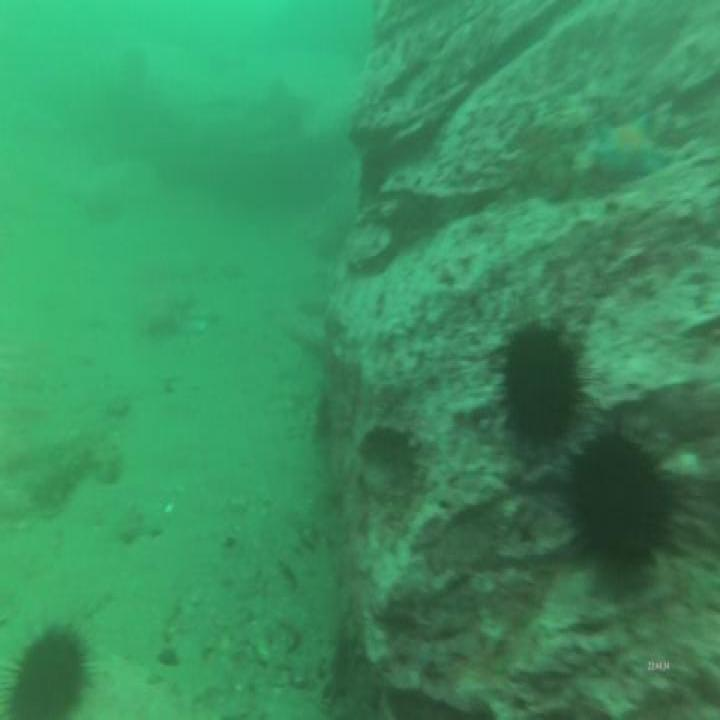echinus: (568, 426, 672, 578), (499, 309, 584, 459), (3, 615, 91, 720)
holothurian: (26, 427, 124, 517)
starfish: (585, 105, 669, 188)
